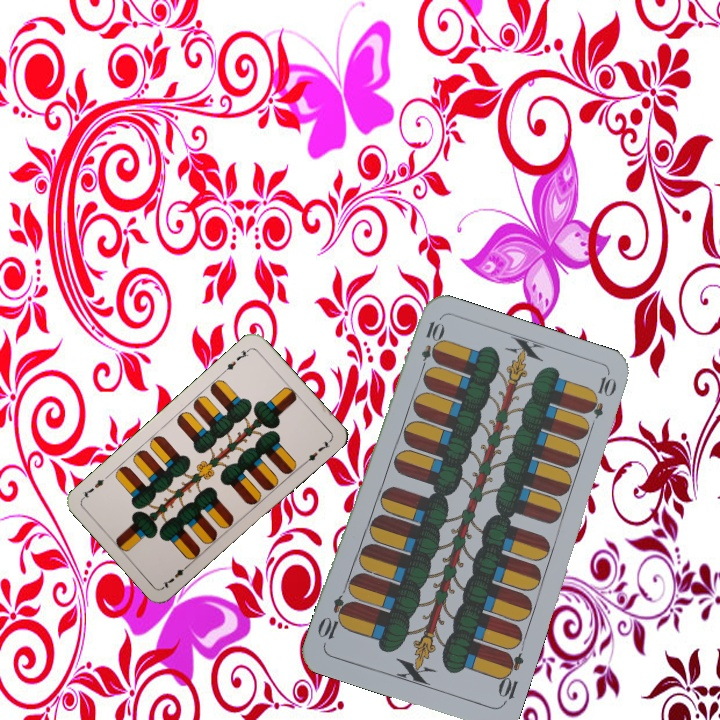E10: (494, 648, 527, 707), (416, 317, 444, 376)
E7: (219, 344, 253, 375), (158, 560, 192, 591)
